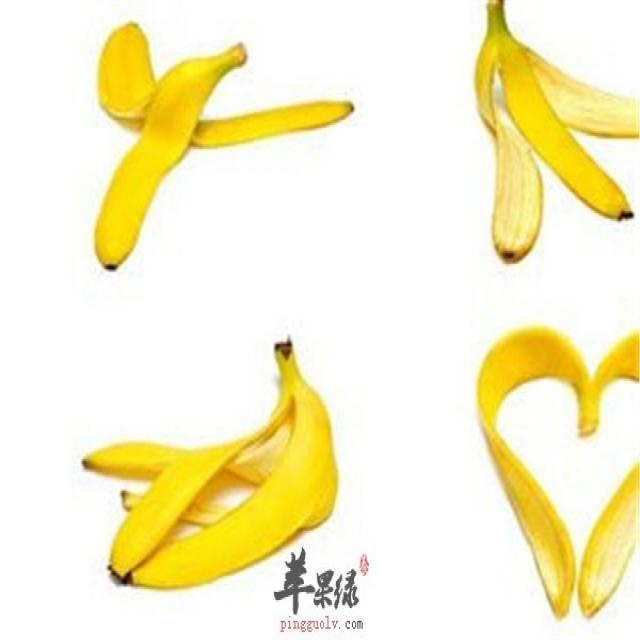banana-peel: (80, 334, 339, 590), (91, 19, 354, 271), (474, 323, 639, 620), (471, 0, 639, 263)
